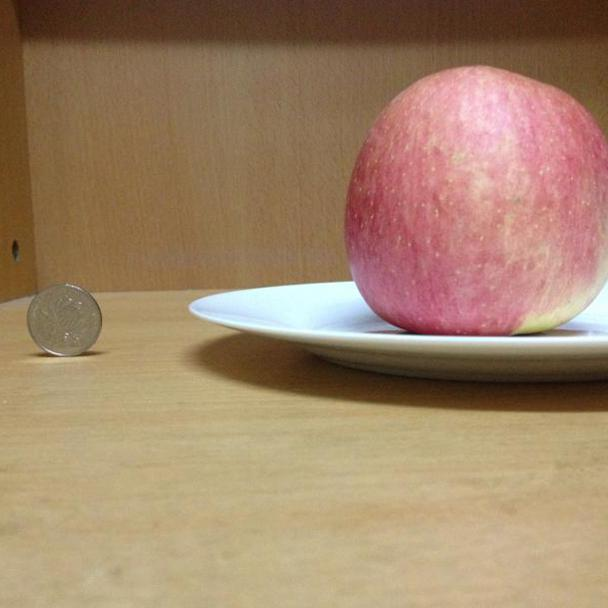apple: (344, 64, 608, 335)
